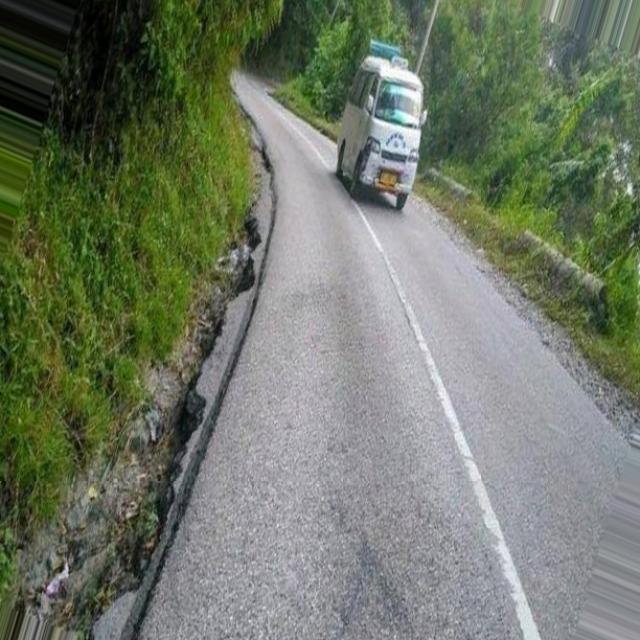Pinggir: (80, 145, 291, 611)
